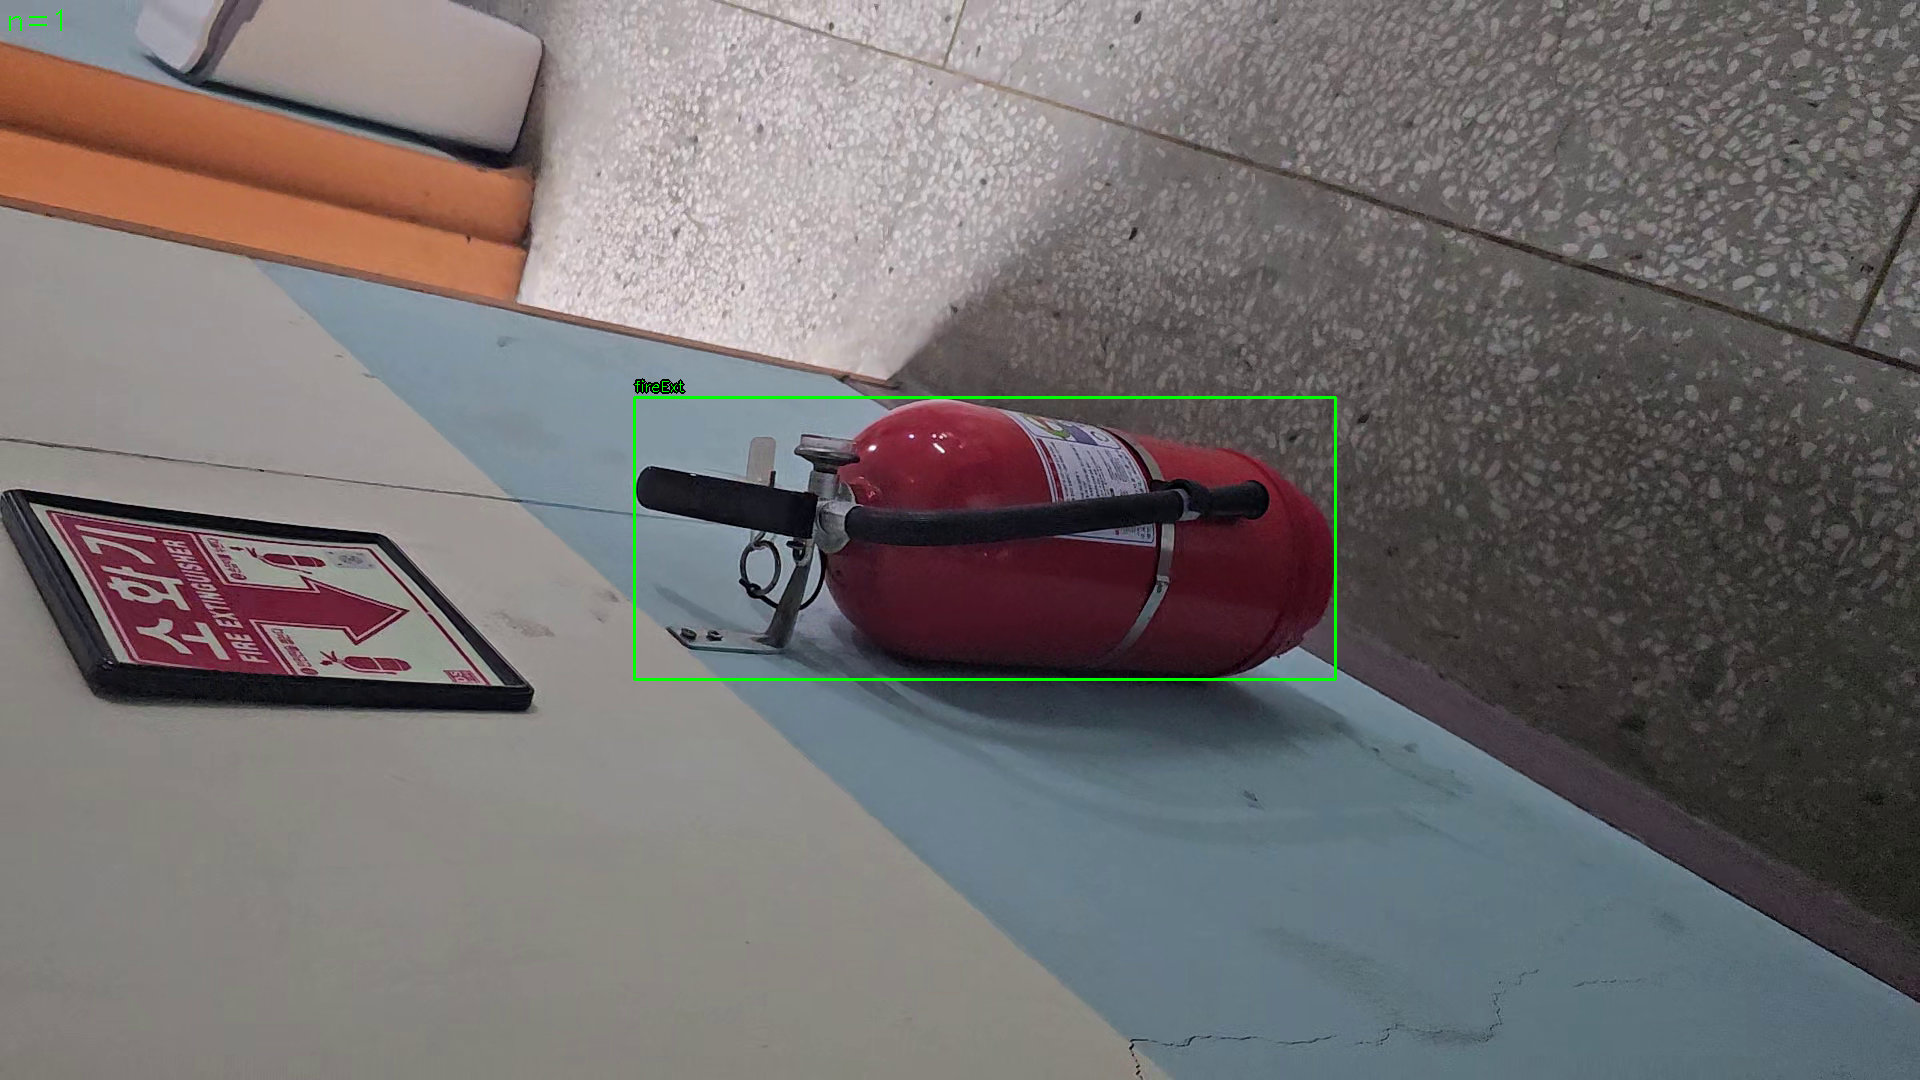lane: (634, 397, 1336, 680)
